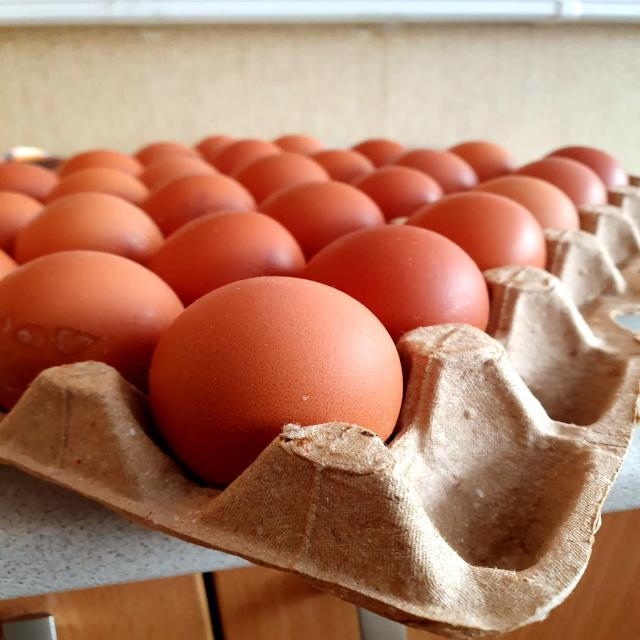egg: (154, 269, 427, 499)
